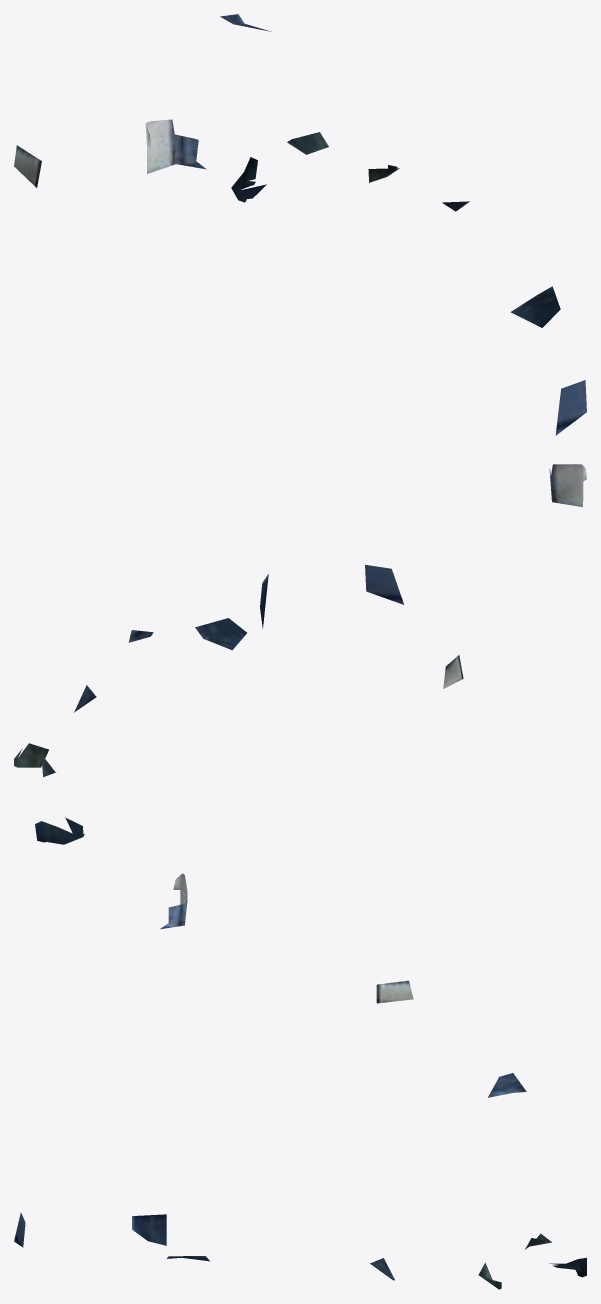
3 views of the same model, one above another, from view 1: azimuth 30°, elevation 25°; view 2: azimuth 150°, elevation 25°; view 3: azimuth 270°, elevation 25° (orthographic). The views are drawn at different scales.
Parts seen in each view (by area): view 1: 30436272704370407506_1; view 2: 30436272704370407506_1; view 3: 30436272704370407506_1.
Part boxes in pixels (box(x1,y1,x2,y2)): 30436272704370407506_1: box(14, 14, 586, 435); 30436272704370407506_1: box(14, 464, 586, 844); 30436272704370407506_1: box(14, 873, 586, 1289).
Bounding box in the file's own units: 27.31 × 19.41 × 38.26.
Materials: 1 (1 with a texture image).
